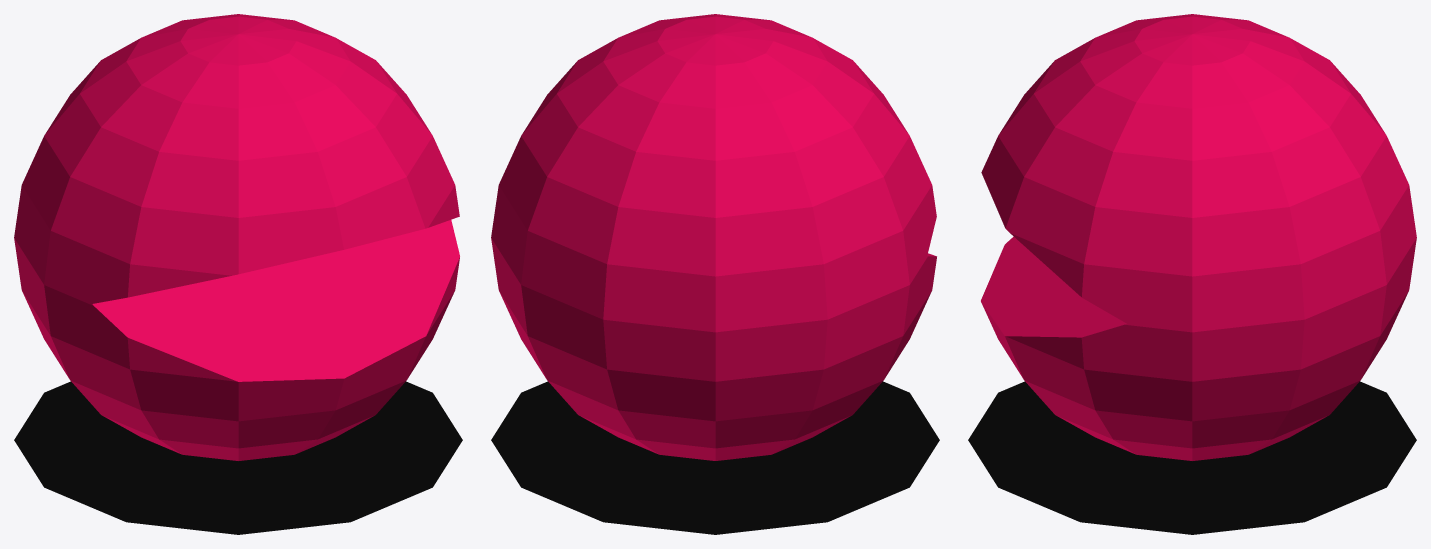
File: Enemy.fbx
The picture shows the model from 3 angles, left to right: view 1: azimuth 30°, elevation 25°; view 2: azimuth 150°, elevation 25°; view 3: azimuth 270°, elevation 25°; orthographic projection.
Parts seen in each view (by area): view 1: pCylinder2; view 2: pCylinder2; view 3: pCylinder2.
Boxes of the visible parts, <box> form: pCylinder2: <box>14,14,462,534</box>; pCylinder2: <box>491,14,939,534</box>; pCylinder2: <box>968,14,1416,534</box>.
Bounding box in the file's own units: 0.6 × 0.6 × 0.6.
